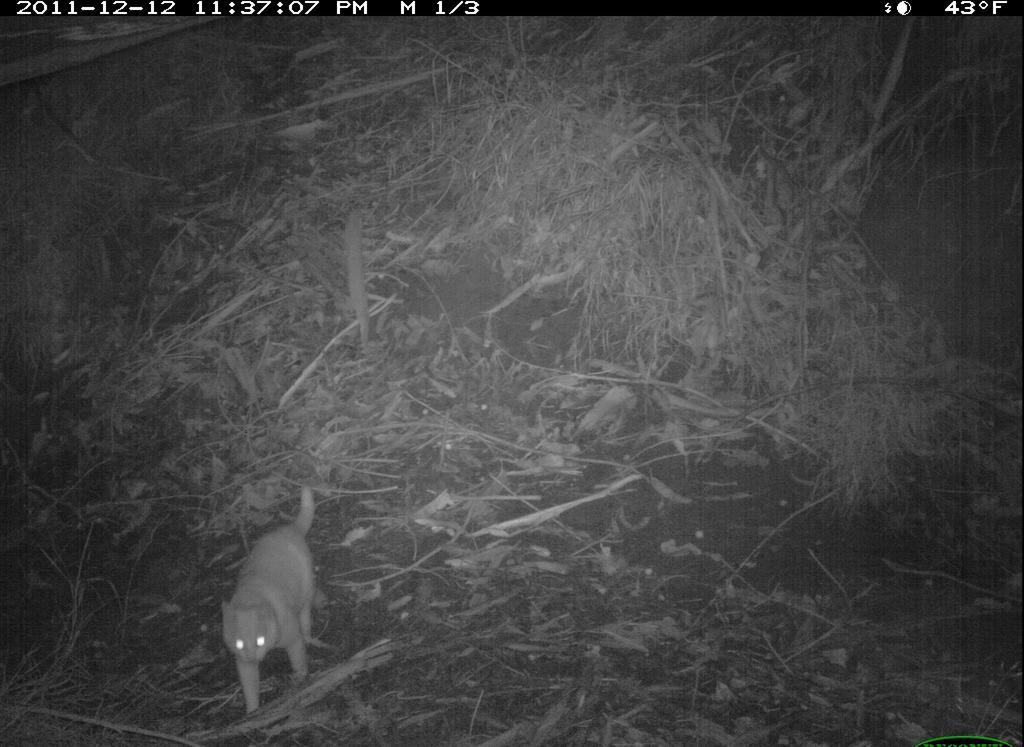cat: (223, 486, 327, 717)
